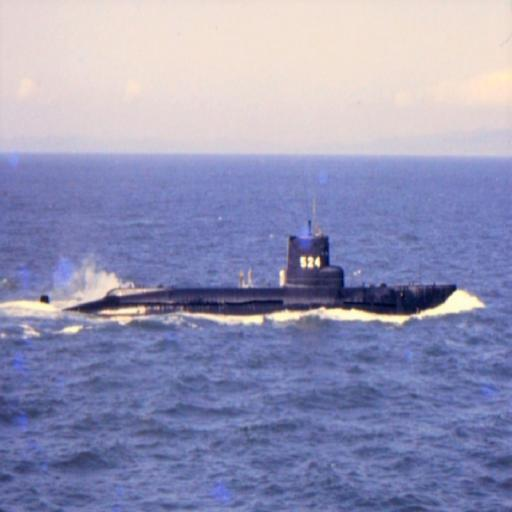submarine: (43, 229, 456, 318)
